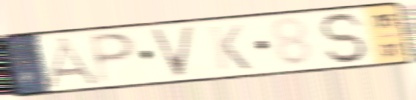8: (268, 15, 319, 70)
A: (44, 34, 105, 90)
K: (206, 23, 254, 73)
P: (85, 30, 139, 87)
S: (316, 11, 374, 66)
V: (146, 23, 198, 80)
